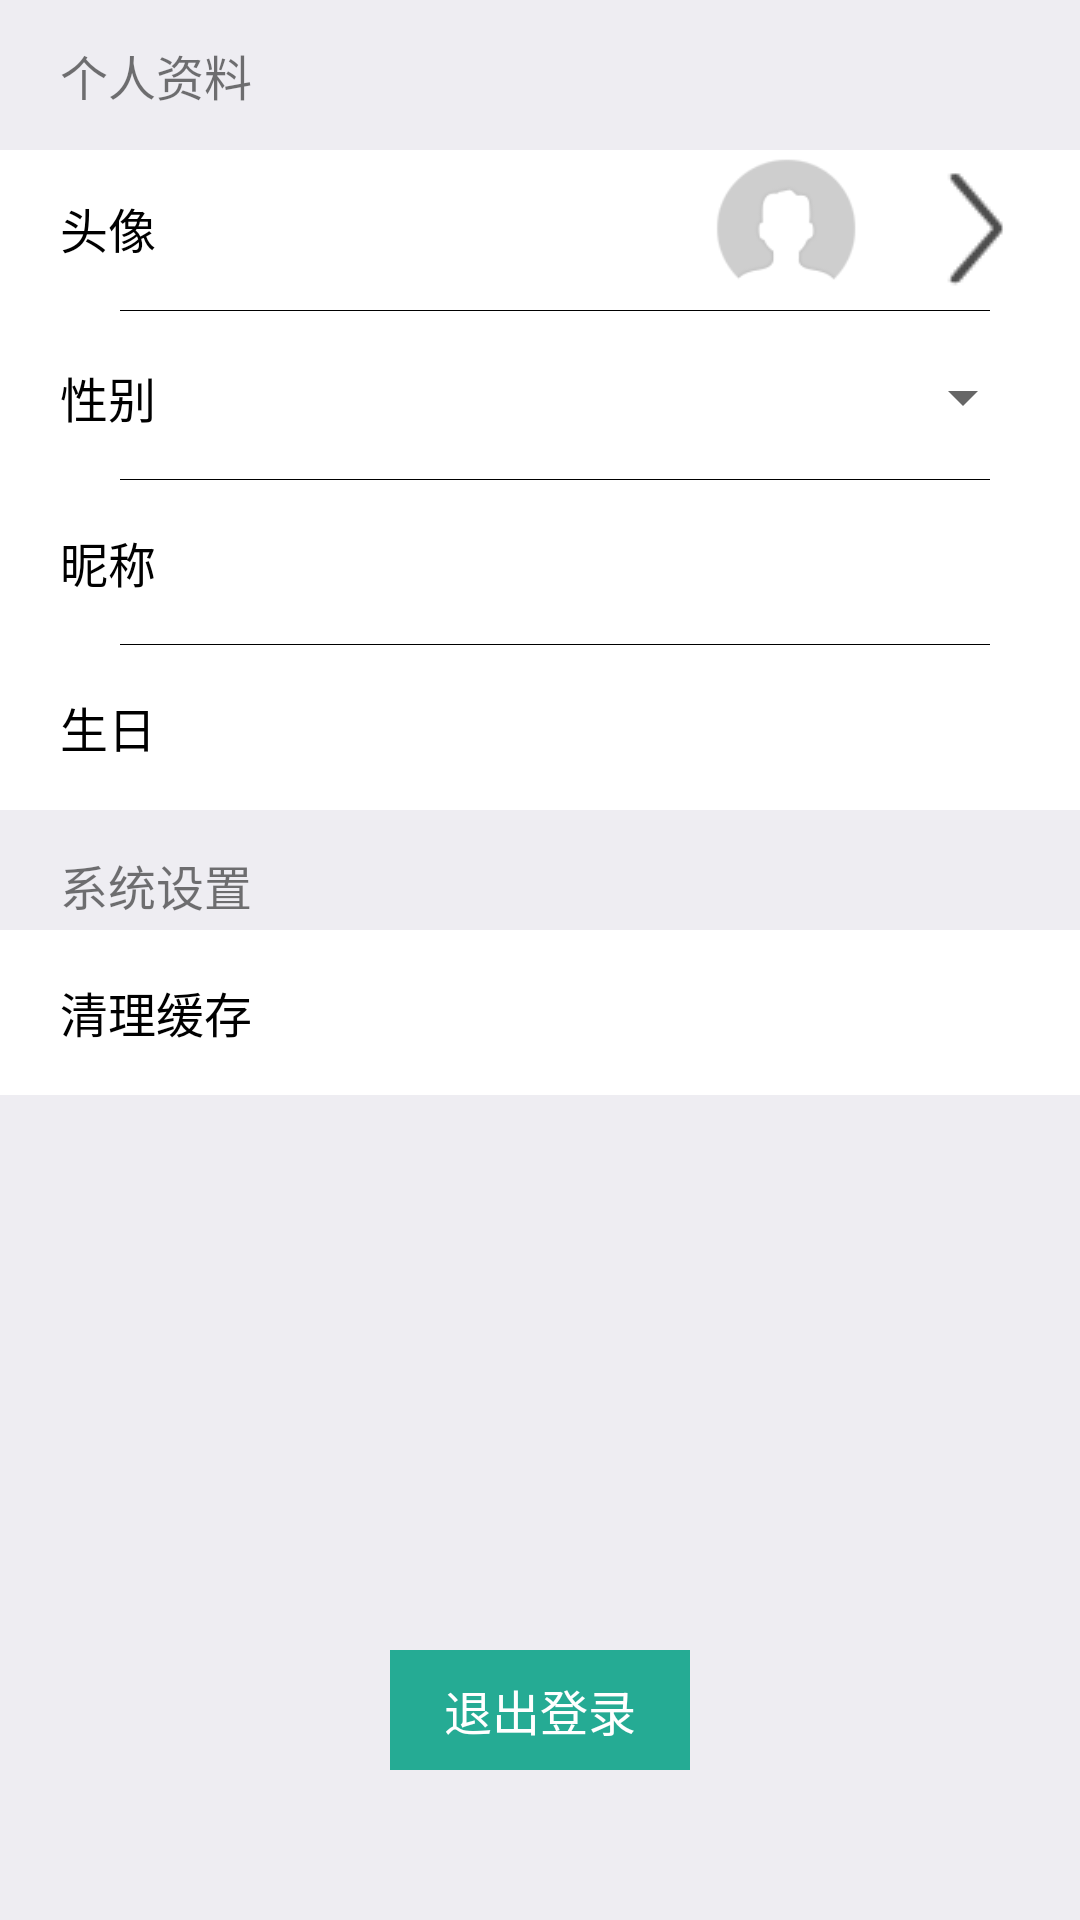

Screen size 1080 × 1920. Icon name, then its box in pixels as (x1, y1, x2, y2):
forward: (949, 173, 1003, 284)
head: (717, 160, 855, 279)
